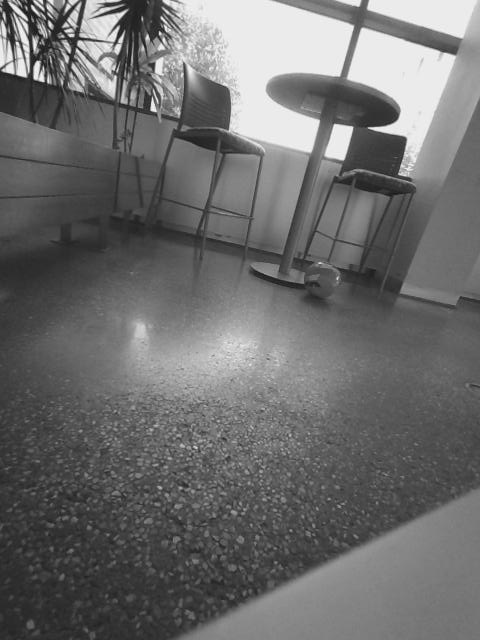ball: (301, 258, 344, 300)
